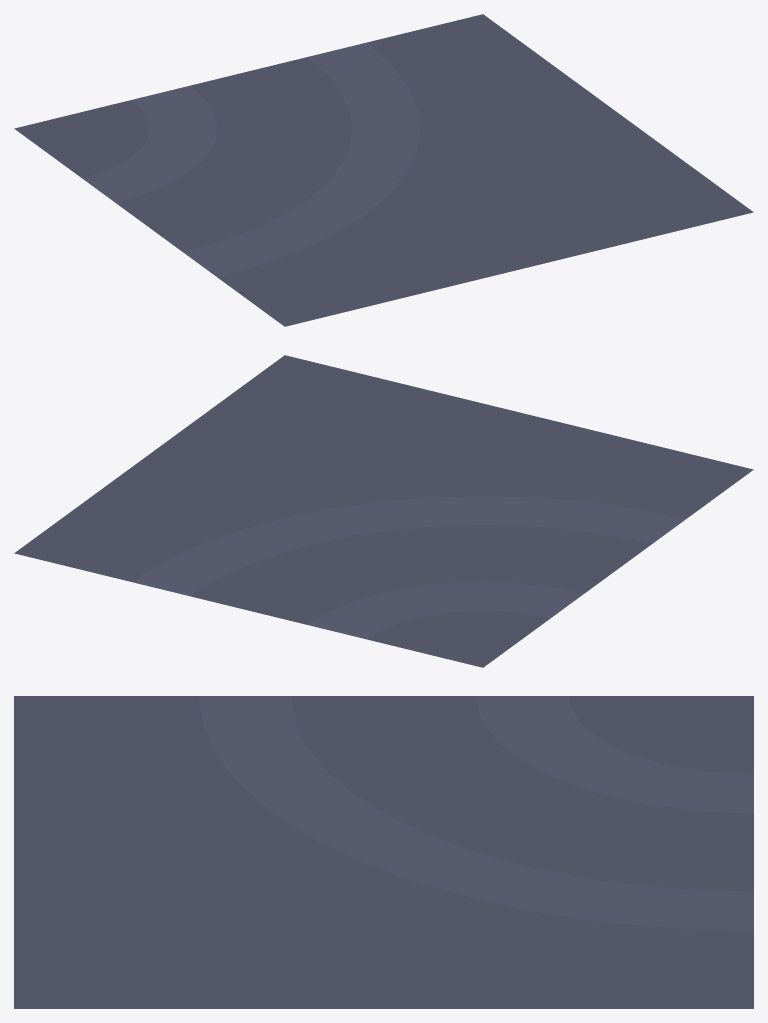
Rendered from terrain_roadCorner.glb.
The picture shows the model from 3 angles, top to bottom: view 1: azimuth 30°, elevation 25°; view 2: azimuth 150°, elevation 25°; view 3: azimuth 270°, elevation 25°; orthographic projection. The views are drawn at different scales.
Visible parts, largest first — view 1: terrain_roadCorner; view 2: terrain_roadCorner; view 3: terrain_roadCorner.
Part boxes in pixels (<box>): terrain_roadCorner: <box>14,14,753,326</box>; terrain_roadCorner: <box>14,355,753,667</box>; terrain_roadCorner: <box>14,696,753,1008</box>.
Size of the model in its own units: 1 by 0 by 1.
